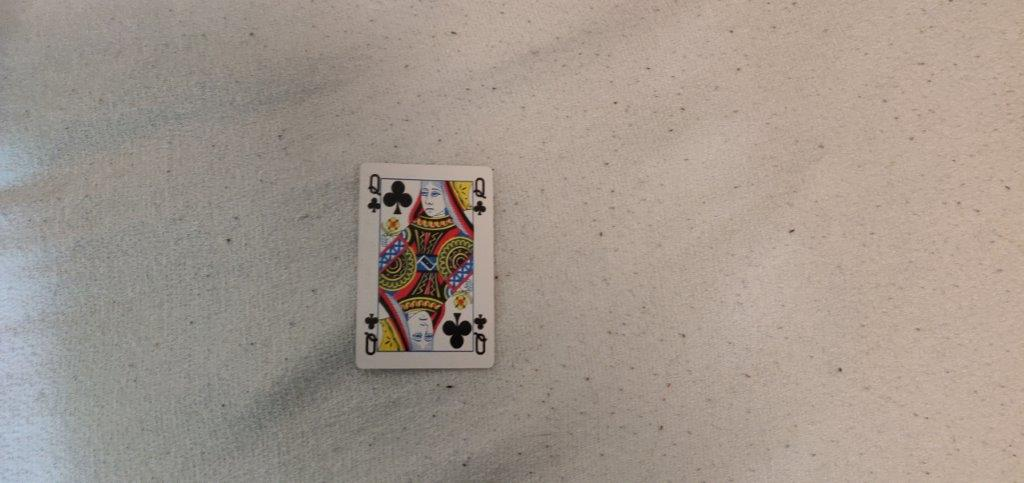QC: (365, 171, 383, 217), (471, 175, 490, 218)
